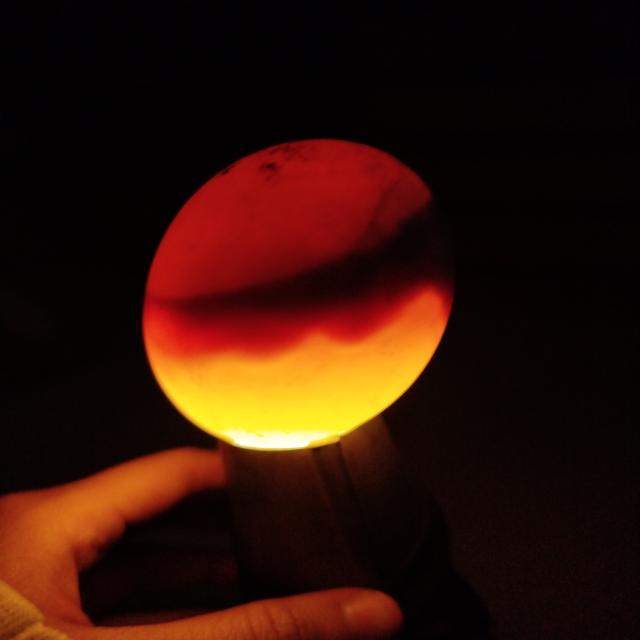Area Infectada: (168, 199, 456, 324)
